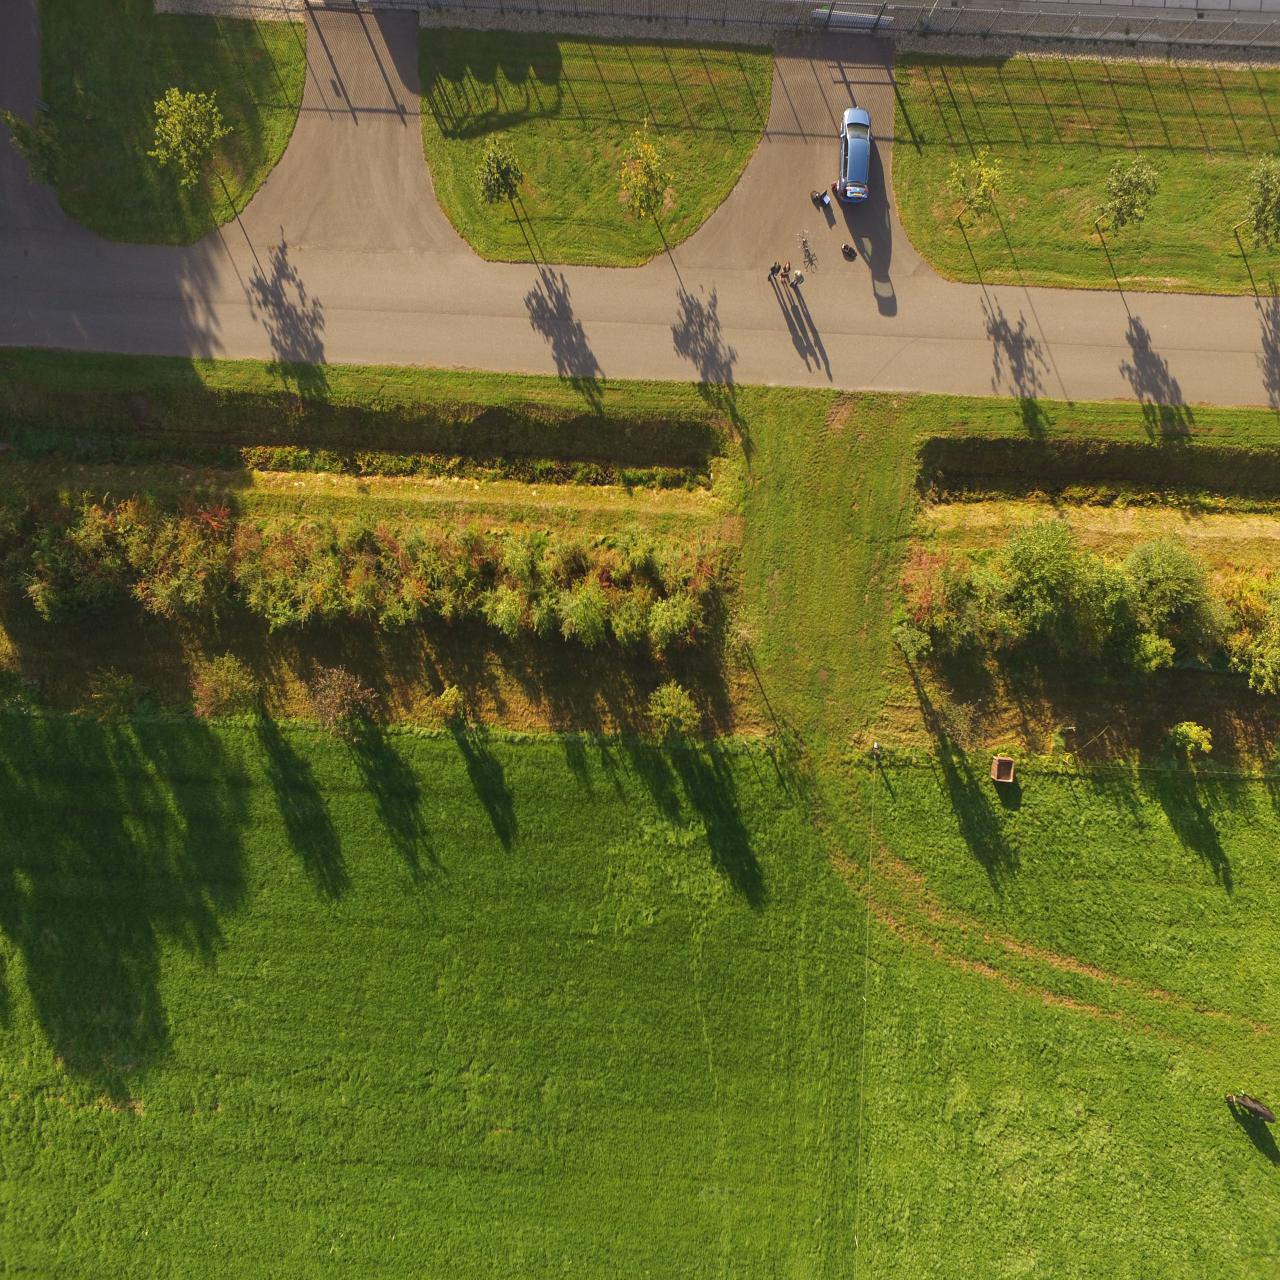cow: (1224, 1082, 1280, 1130)
